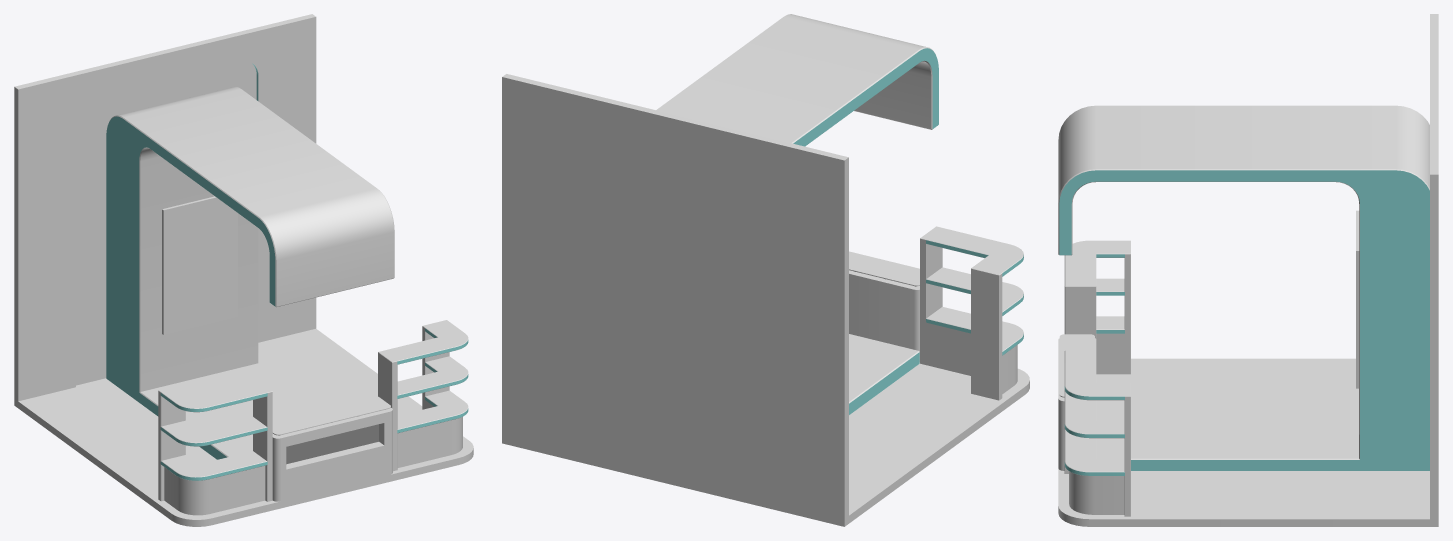
Rendered from Stand_13.fbx.
The picture shows the model from 3 angles, left to right: view 1: azimuth 30°, elevation 25°; view 2: azimuth 150°, elevation 25°; view 3: azimuth 270°, elevation 25°; orthographic projection. The views are drawn at different scales.
Parts seen in each view (by area): view 1: Stand_13, Stand_13_Picture_2, Stand_13_Picture_1; view 2: Stand_13, Stand_13_Picture_1; view 3: Stand_13, Stand_13_Picture_1, Stand_13_Picture_2.
Part boxes in pixels (x1,y1,x2,y2): Stand_13: [14, 14, 473, 526]; Stand_13_Picture_2: [162, 196, 237, 334]; Stand_13_Picture_1: [164, 417, 462, 515]; Stand_13: [502, 14, 1029, 526]; Stand_13_Picture_1: [1002, 345, 1017, 393]; Stand_13: [1058, 14, 1438, 526]; Stand_13_Picture_1: [1069, 471, 1124, 514]; Stand_13_Picture_2: [1356, 210, 1359, 388].
Bounding box in the file's own units: 400 × 409 × 400.
